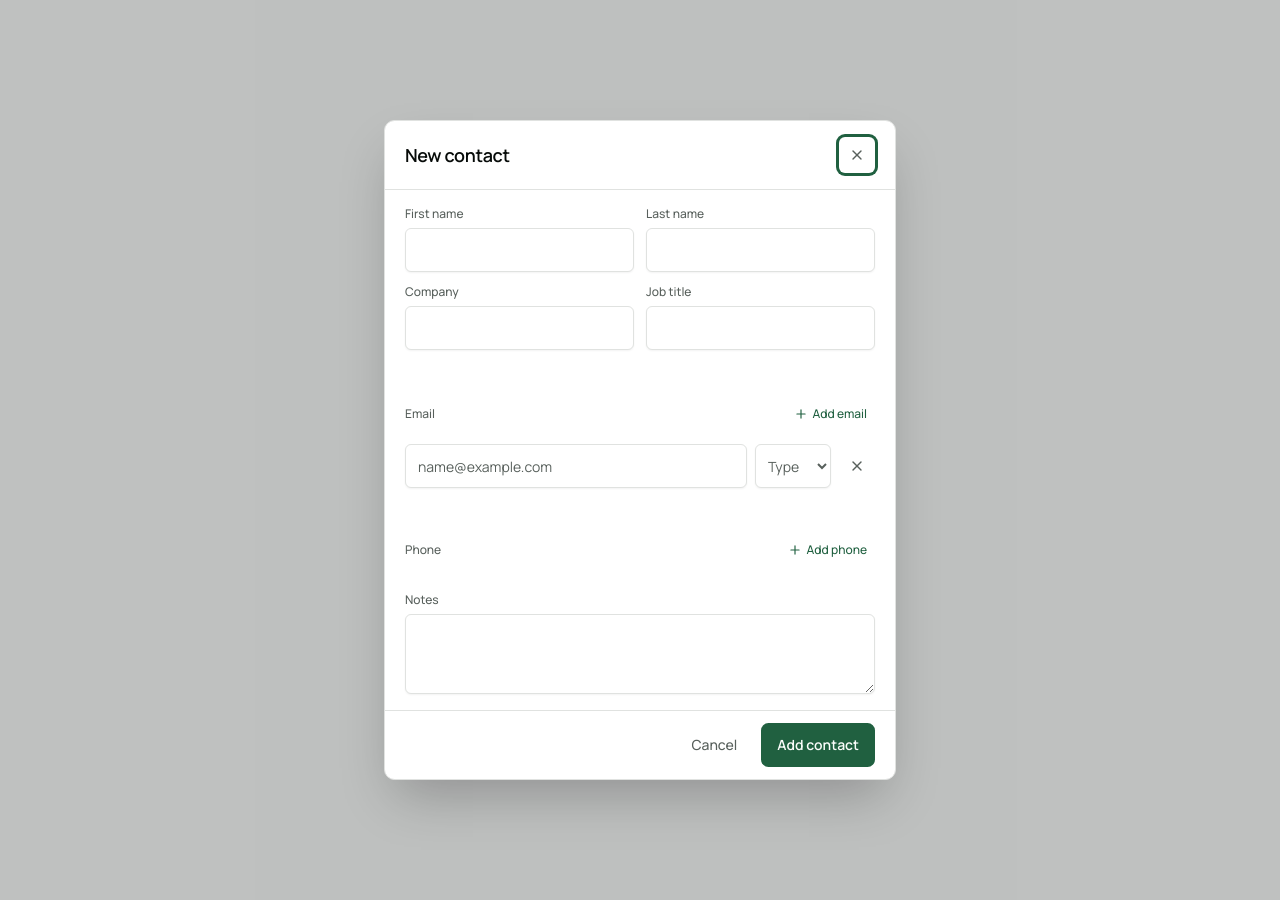
Test: ContactModal — create › blocks a blank contact with focused, actionable identity guidance
In the text box labelled "Notes": (640, 654) [405, 614, 875, 694], type "Keep this draft value"
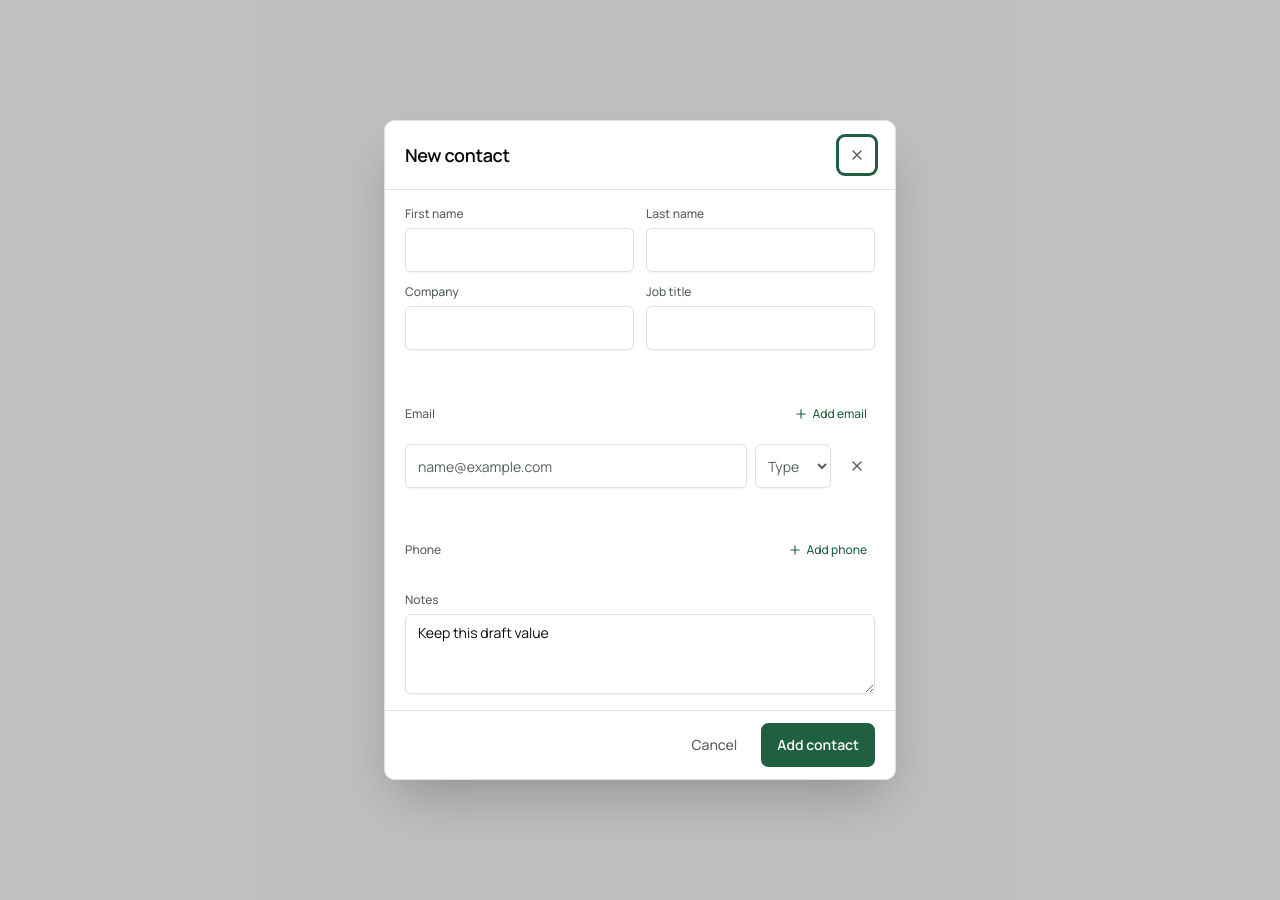
Click the button "Add contact": (818, 745) [761, 723, 875, 767]
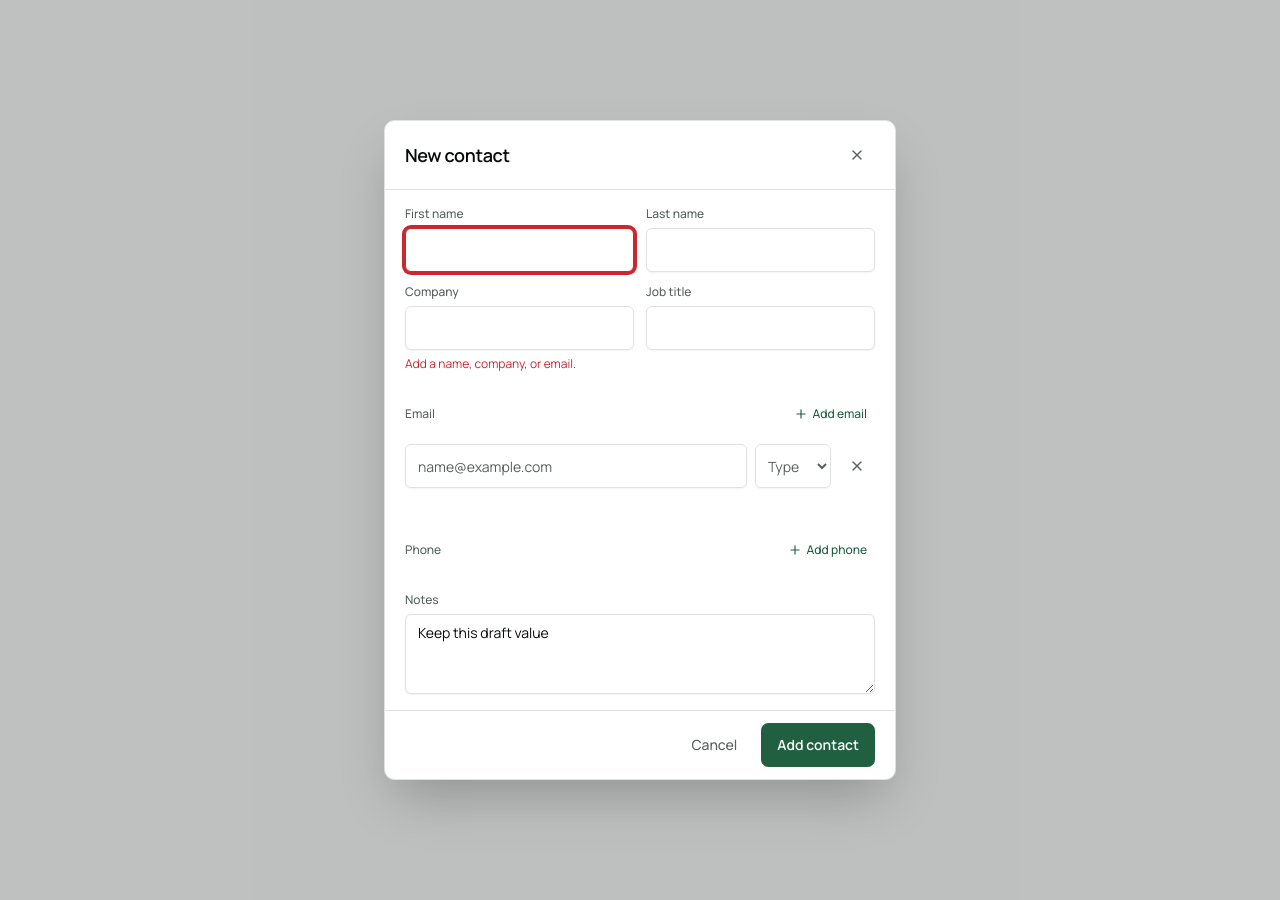
Check: the message reads "Add a name, company, or email.", box [405, 355, 576, 372]
In the field labelled "First name": (520, 250) [405, 228, 634, 272], type "Grace"
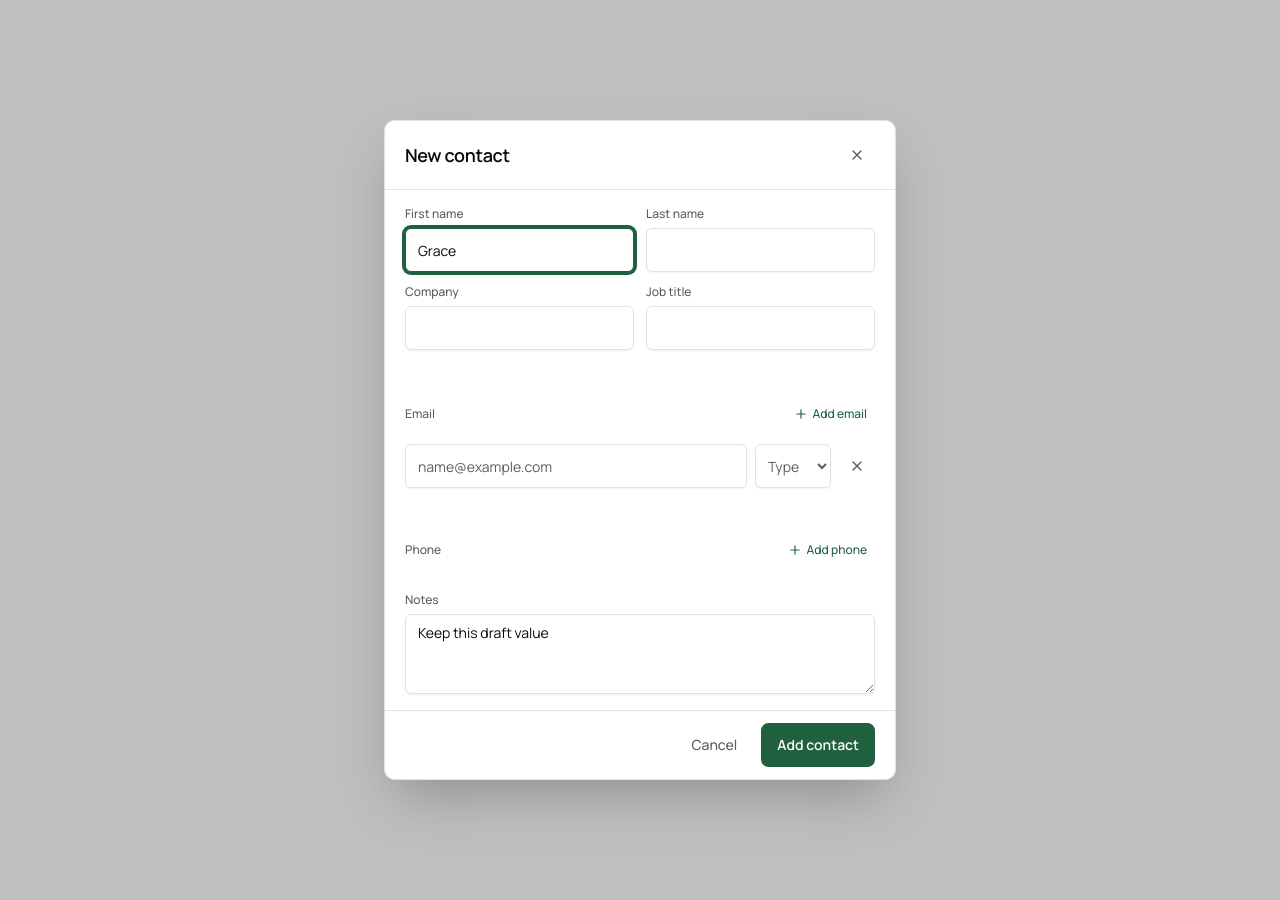
Check: the message "Add a name, company, or email." is gone
